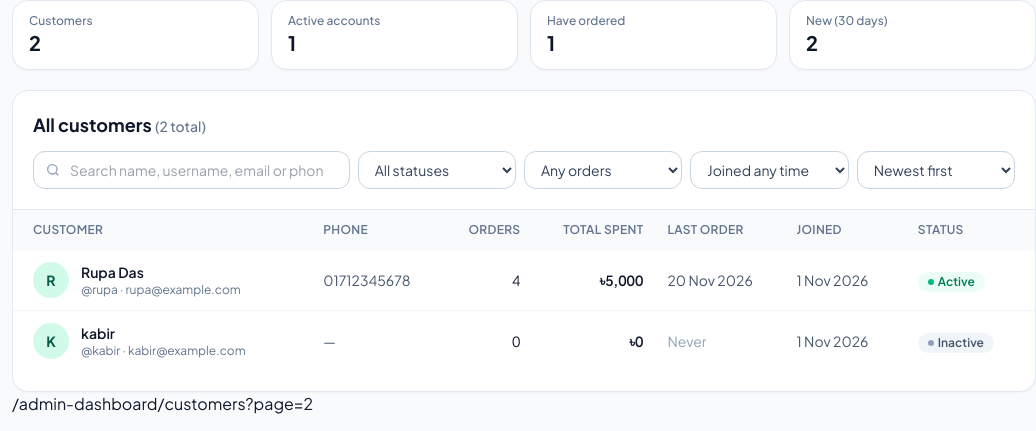
AdminCustomersPage › filters and debounced search go to the API and the URL; page resets
The image size is (1036, 431).
Check: the text with test id "sum-total" is shown, box [29,30,41,55]
Select "Inactive" in the 1st dropdown named "Status" at (437, 170), box [358,151,516,189]
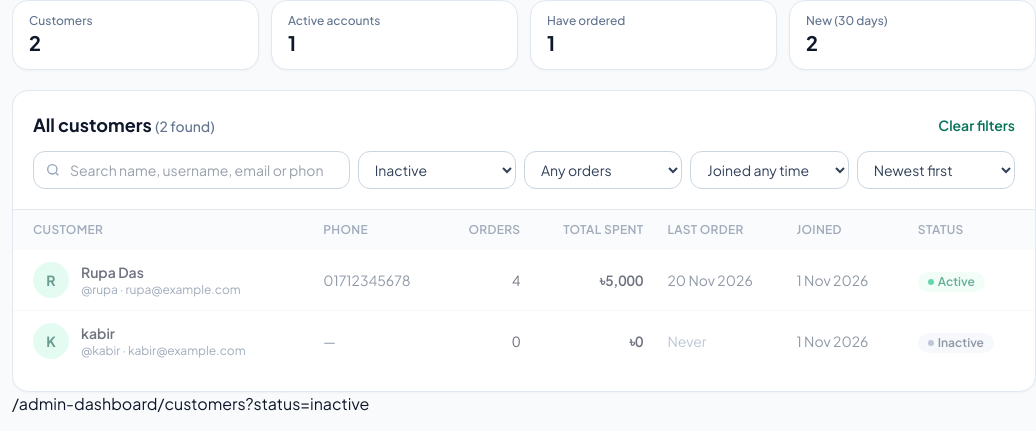
Check: the text with test id "where" shows "?status=inactive", box [12,393,369,414]
Select "Most spent" in the 4th dropdown named "Sort by" at (936, 170), box [857,151,1015,189]
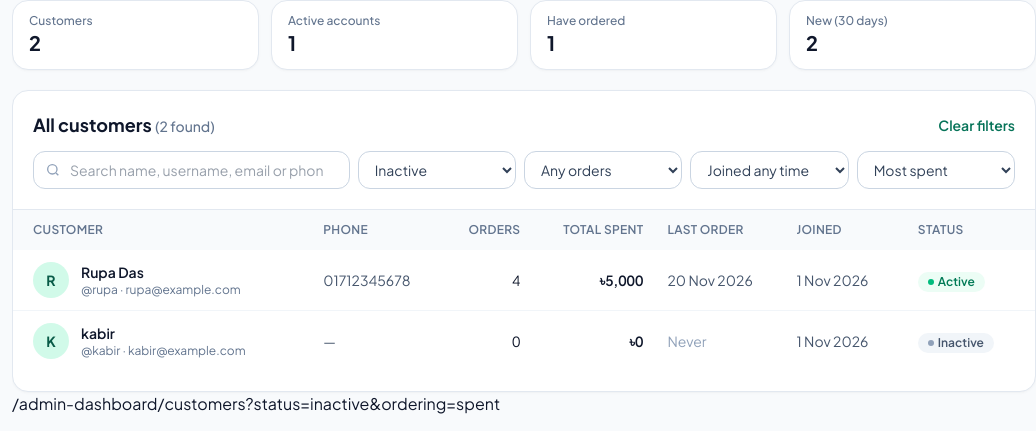
Type "ru" into the search field named "Search customers" at (191, 170), box [33,151,350,189]
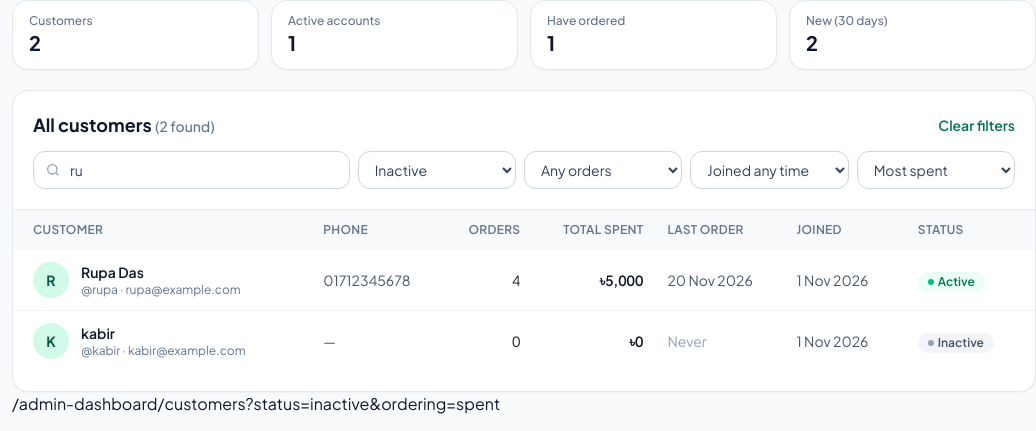
Replace the text in the search field named "Search customers" with "rupa" at (191, 170), box [33,151,350,189]
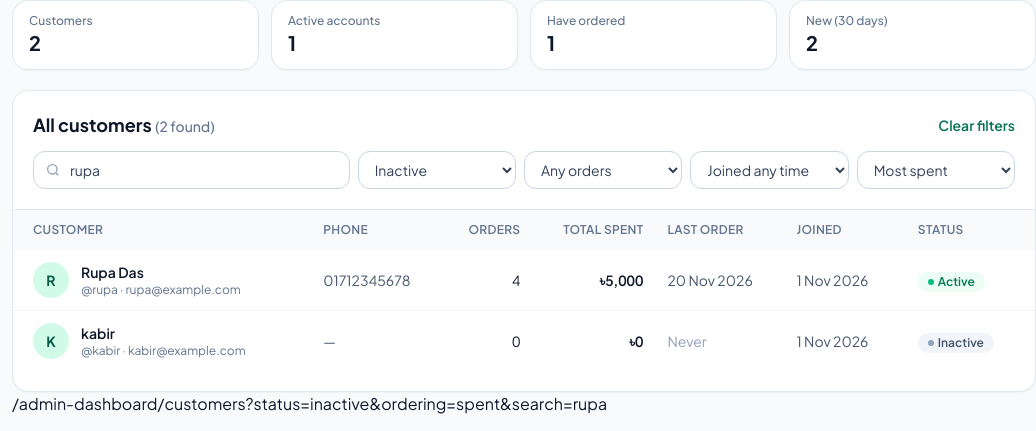
Click the button "Clear filters" at (977, 125), box [938,115,1015,135]
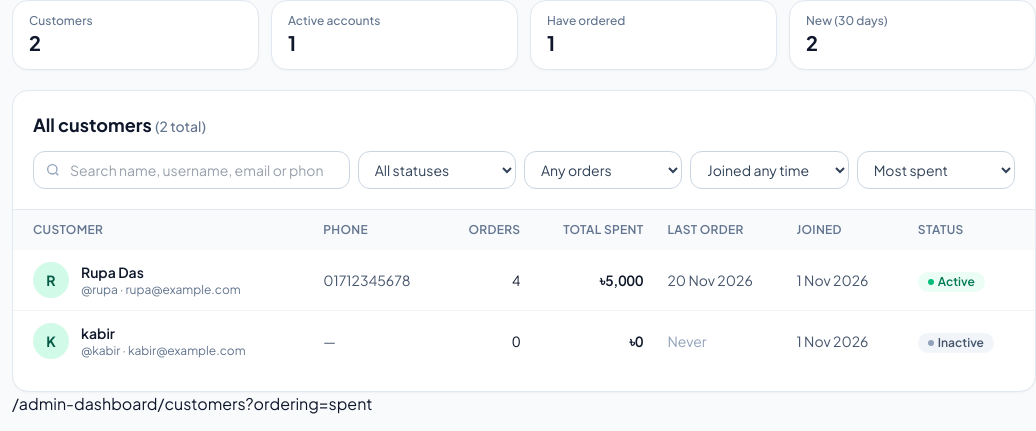
Check: the text with test id "where" reads "/admin-dashboard/customers?ordering=spent", box [12,393,372,414]
Check: the search field named "Search customers" is empty, box [33,151,350,189]
